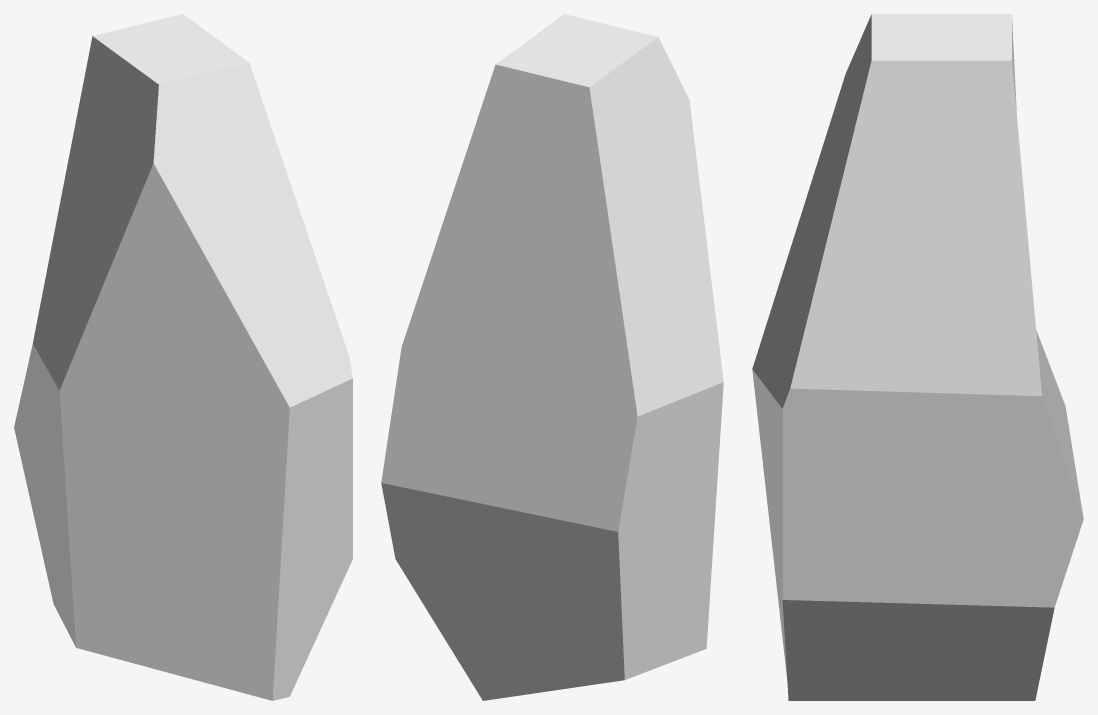
File: charcoal_1.fbx
The picture shows the model from 3 angles, left to right: view 1: azimuth 30°, elevation 25°; view 2: azimuth 150°, elevation 25°; view 3: azimuth 270°, elevation 25°; orthographic projection. The views are drawn at different scales.
Parts seen in each view (by area): view 1: charcoal_1; view 2: charcoal_1; view 3: charcoal_1.
Part boxes in pixels (x1=…): charcoal_1: x1=14, y1=14, x2=352, y2=700; charcoal_1: x1=381, y1=14, x2=723, y2=700; charcoal_1: x1=752, y1=14, x2=1083, y2=700.
Bounding box in the file's own units: 229 × 535 × 251.
